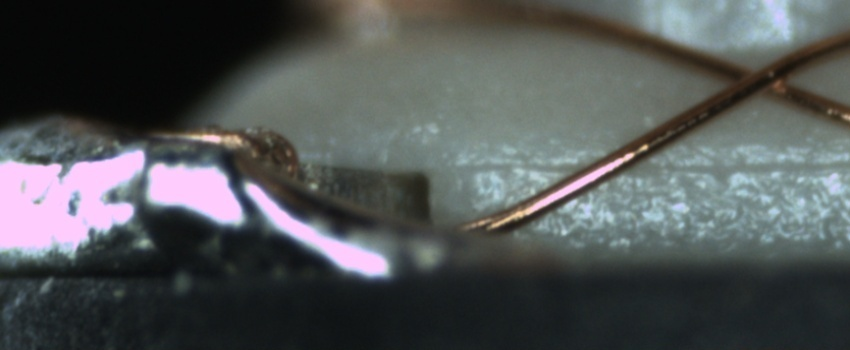CL: (713, 49, 809, 104)
DL: (451, 137, 849, 197)
TE: (146, 108, 318, 190)
